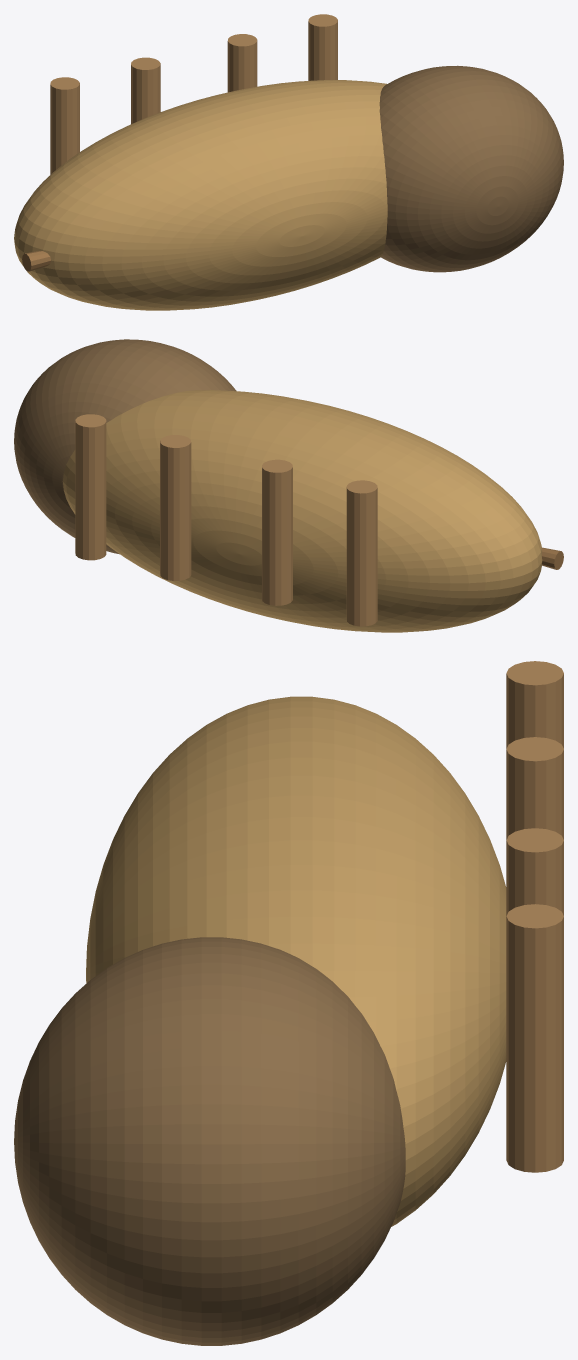
The model's file is leon.glb.
3 renders of one model, top to bottom at view 1: azimuth 30°, elevation 25°; view 2: azimuth 150°, elevation 25°; view 3: azimuth 270°, elevation 25°, orthographic. The views are drawn at different scales.
Visible parts, largest first — view 1: part0, part2, part3, part6, part4, part5, part7; view 2: part0, part2, part3, part6, part5, part4, part7; view 3: part2, part0, part6, part4, part3, part5.
Part boxes in pixels (bbox=[...]): part0: bbox=[14, 80, 387, 310]; part2: bbox=[379, 65, 563, 272]; part3: bbox=[50, 77, 79, 174]; part6: bbox=[308, 14, 337, 80]; part4: bbox=[131, 57, 160, 124]; part5: bbox=[227, 34, 257, 92]; part7: bbox=[22, 251, 50, 271]; part0: bbox=[62, 390, 542, 632]; part2: bbox=[14, 339, 236, 554]; part3: bbox=[346, 480, 377, 626]; part6: bbox=[75, 414, 106, 560]; part5: bbox=[160, 435, 191, 580]; part4: bbox=[262, 459, 292, 605]; part7: bbox=[542, 547, 563, 569]; part2: bbox=[14, 937, 405, 1345]; part0: bbox=[86, 696, 506, 1226]; part6: bbox=[506, 904, 563, 1172]; part4: bbox=[506, 737, 563, 839]; part3: bbox=[506, 661, 563, 748]; part5: bbox=[506, 828, 563, 915].
Bounding box in the file's own units: 3.2 × 1.12 × 1.53.
